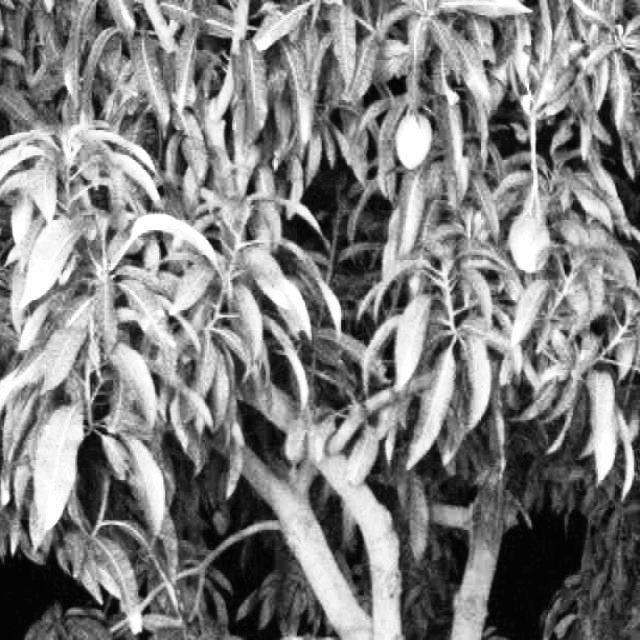Tree: (168, 131, 511, 640)
